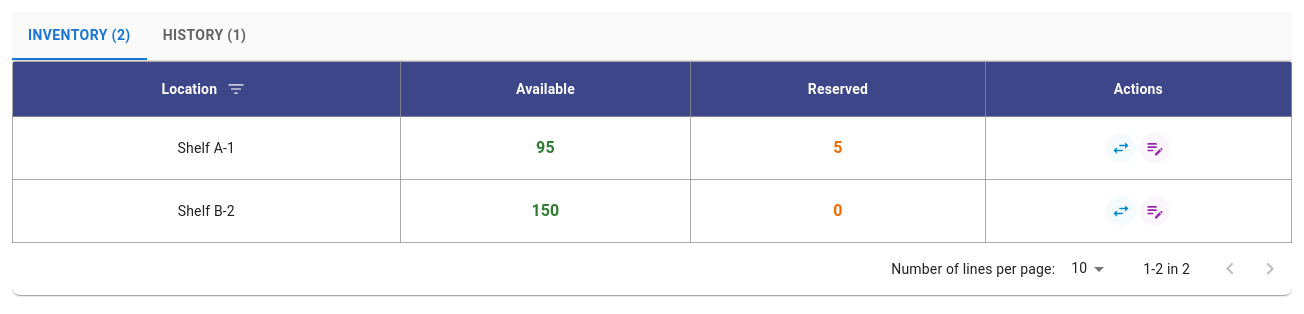
BatchTabsSection - Comprehensive Tests › Movement Type Chips › renders release chip for release type
Click the tab "History (1)" at (205, 36), box [147,12,262,60]
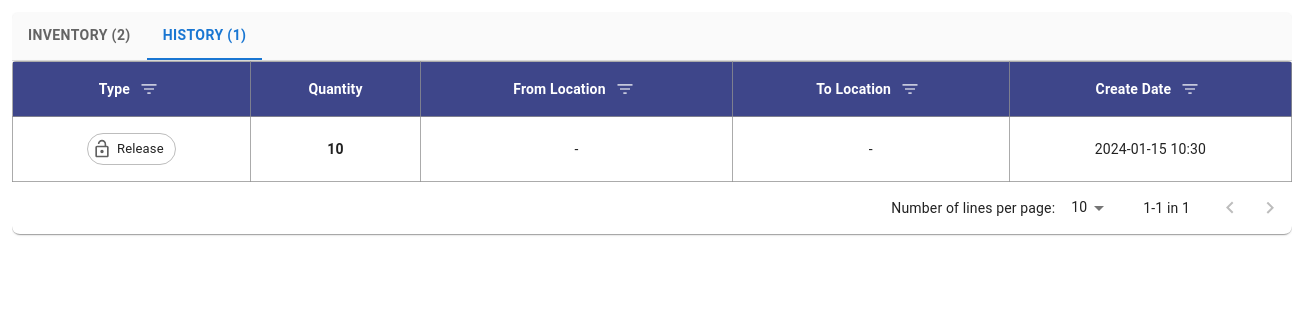
Check: the text "Release" is shown, box [117,141,164,156]
